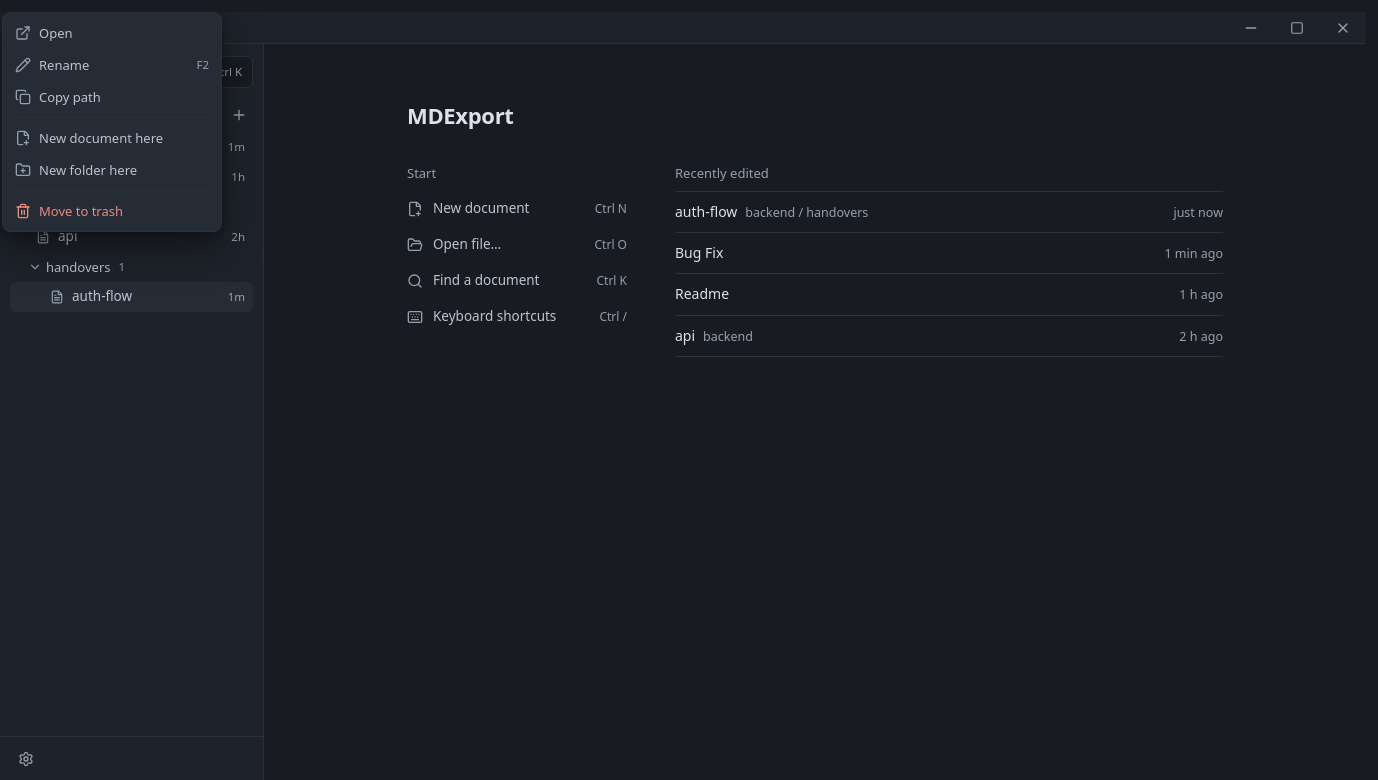
Renaming documents › right-click → Rename edits the name in place and renames on Enter
Click the menu item "Rename F2" at (64, 65), box [15,56,209,74]
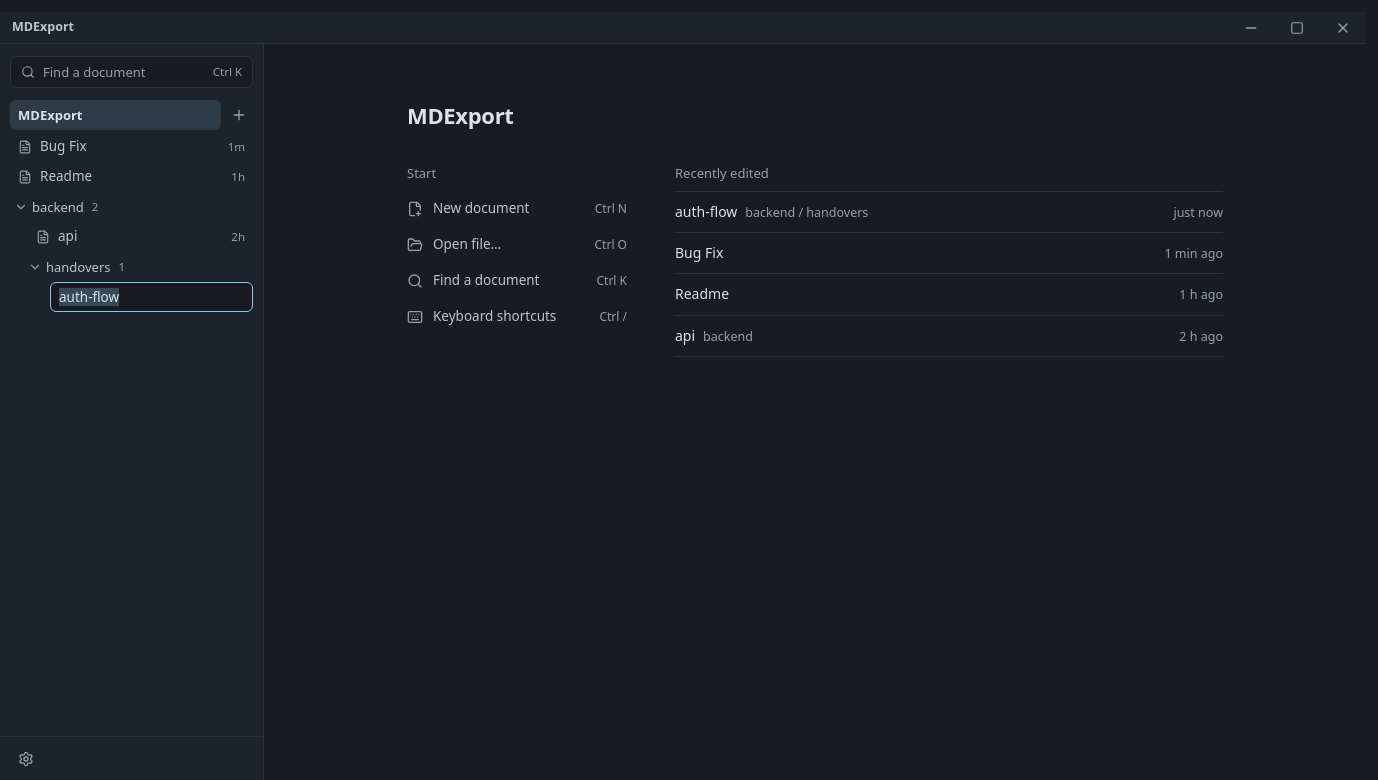
Expected: the field named "Document name" holds "auth-flow"
Replace the text in the field named "Document name" with "login-flow" at (152, 297), box [50,282,253,312]
Then press Enter
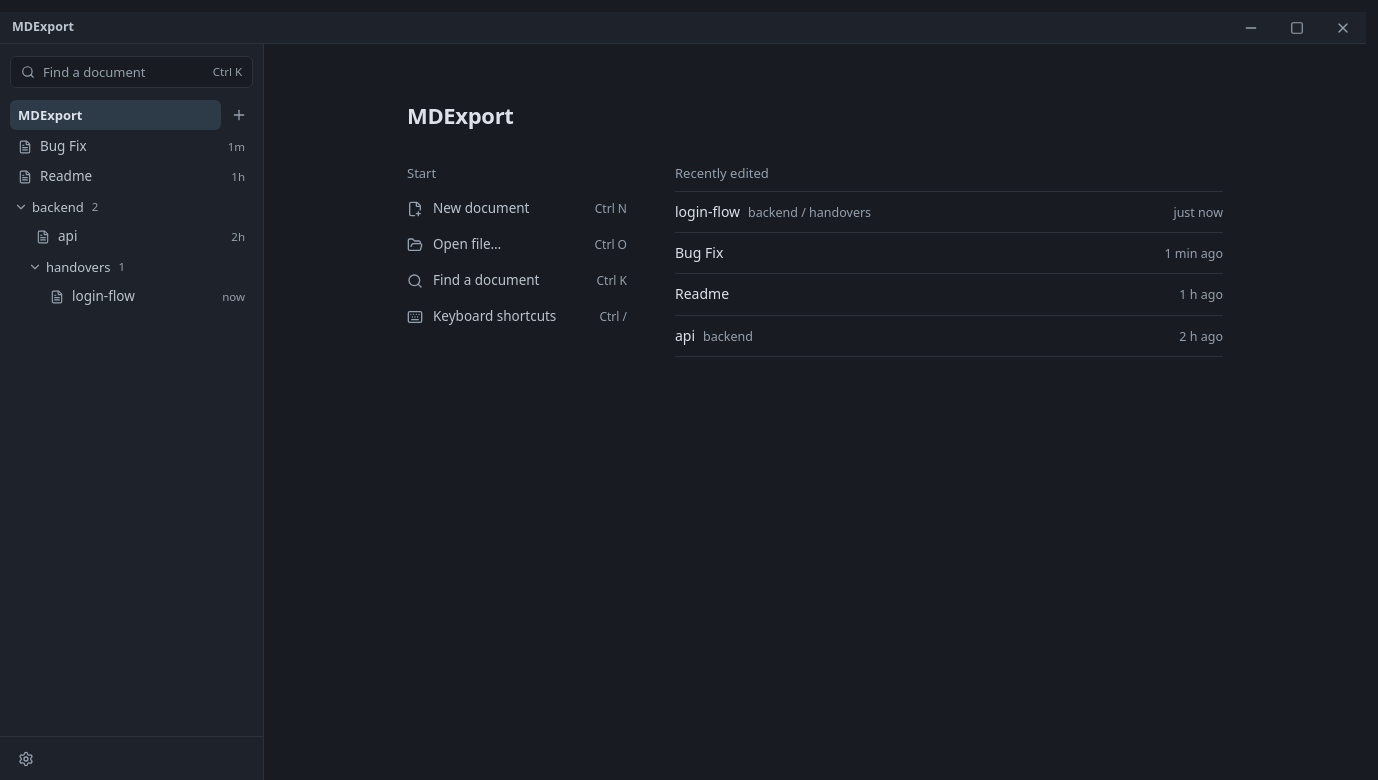
Expected: the button "login-flow now" is shown, [10,282,253,312]
Expected: the field is gone
